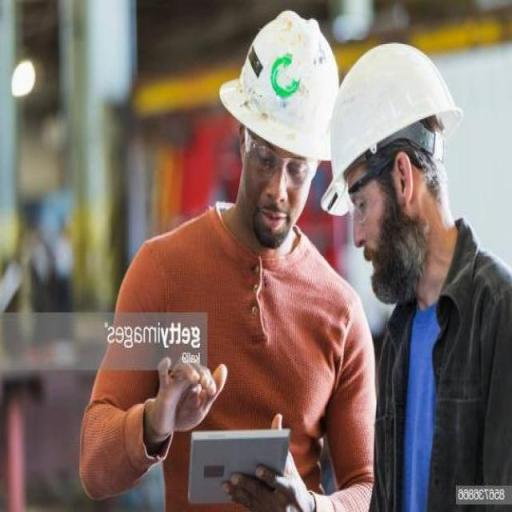helmet: (326, 35, 463, 186), (218, 7, 342, 163)
